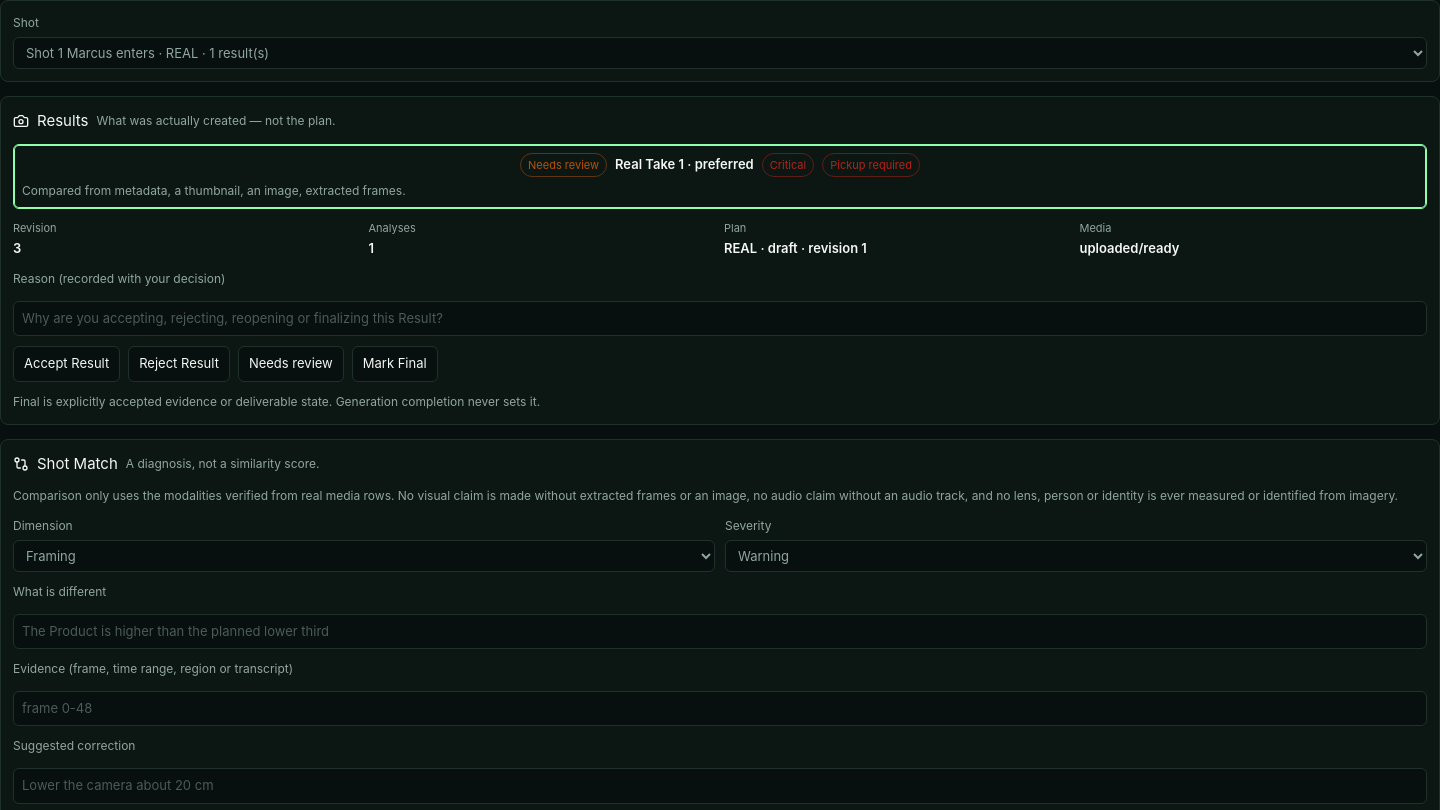
it: results › offers Final only as a request and reports the database refusal honestly
Click the button "Mark Final": click(395, 364) x1=352 y1=346 x2=438 y2=382
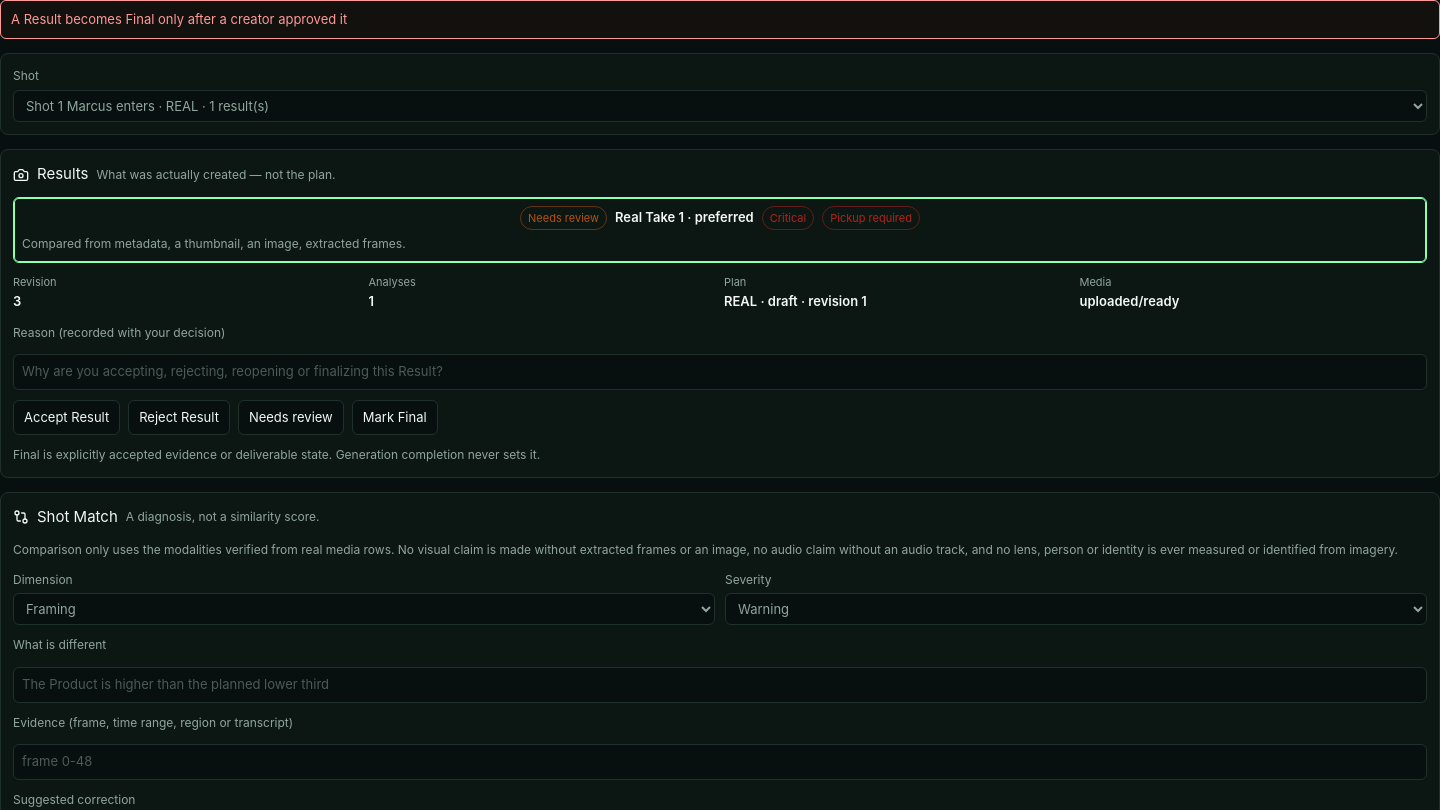
Result: the message reads "A Result becomes Final only after a creator approved it" at x1=11 y1=11 x2=347 y2=27
